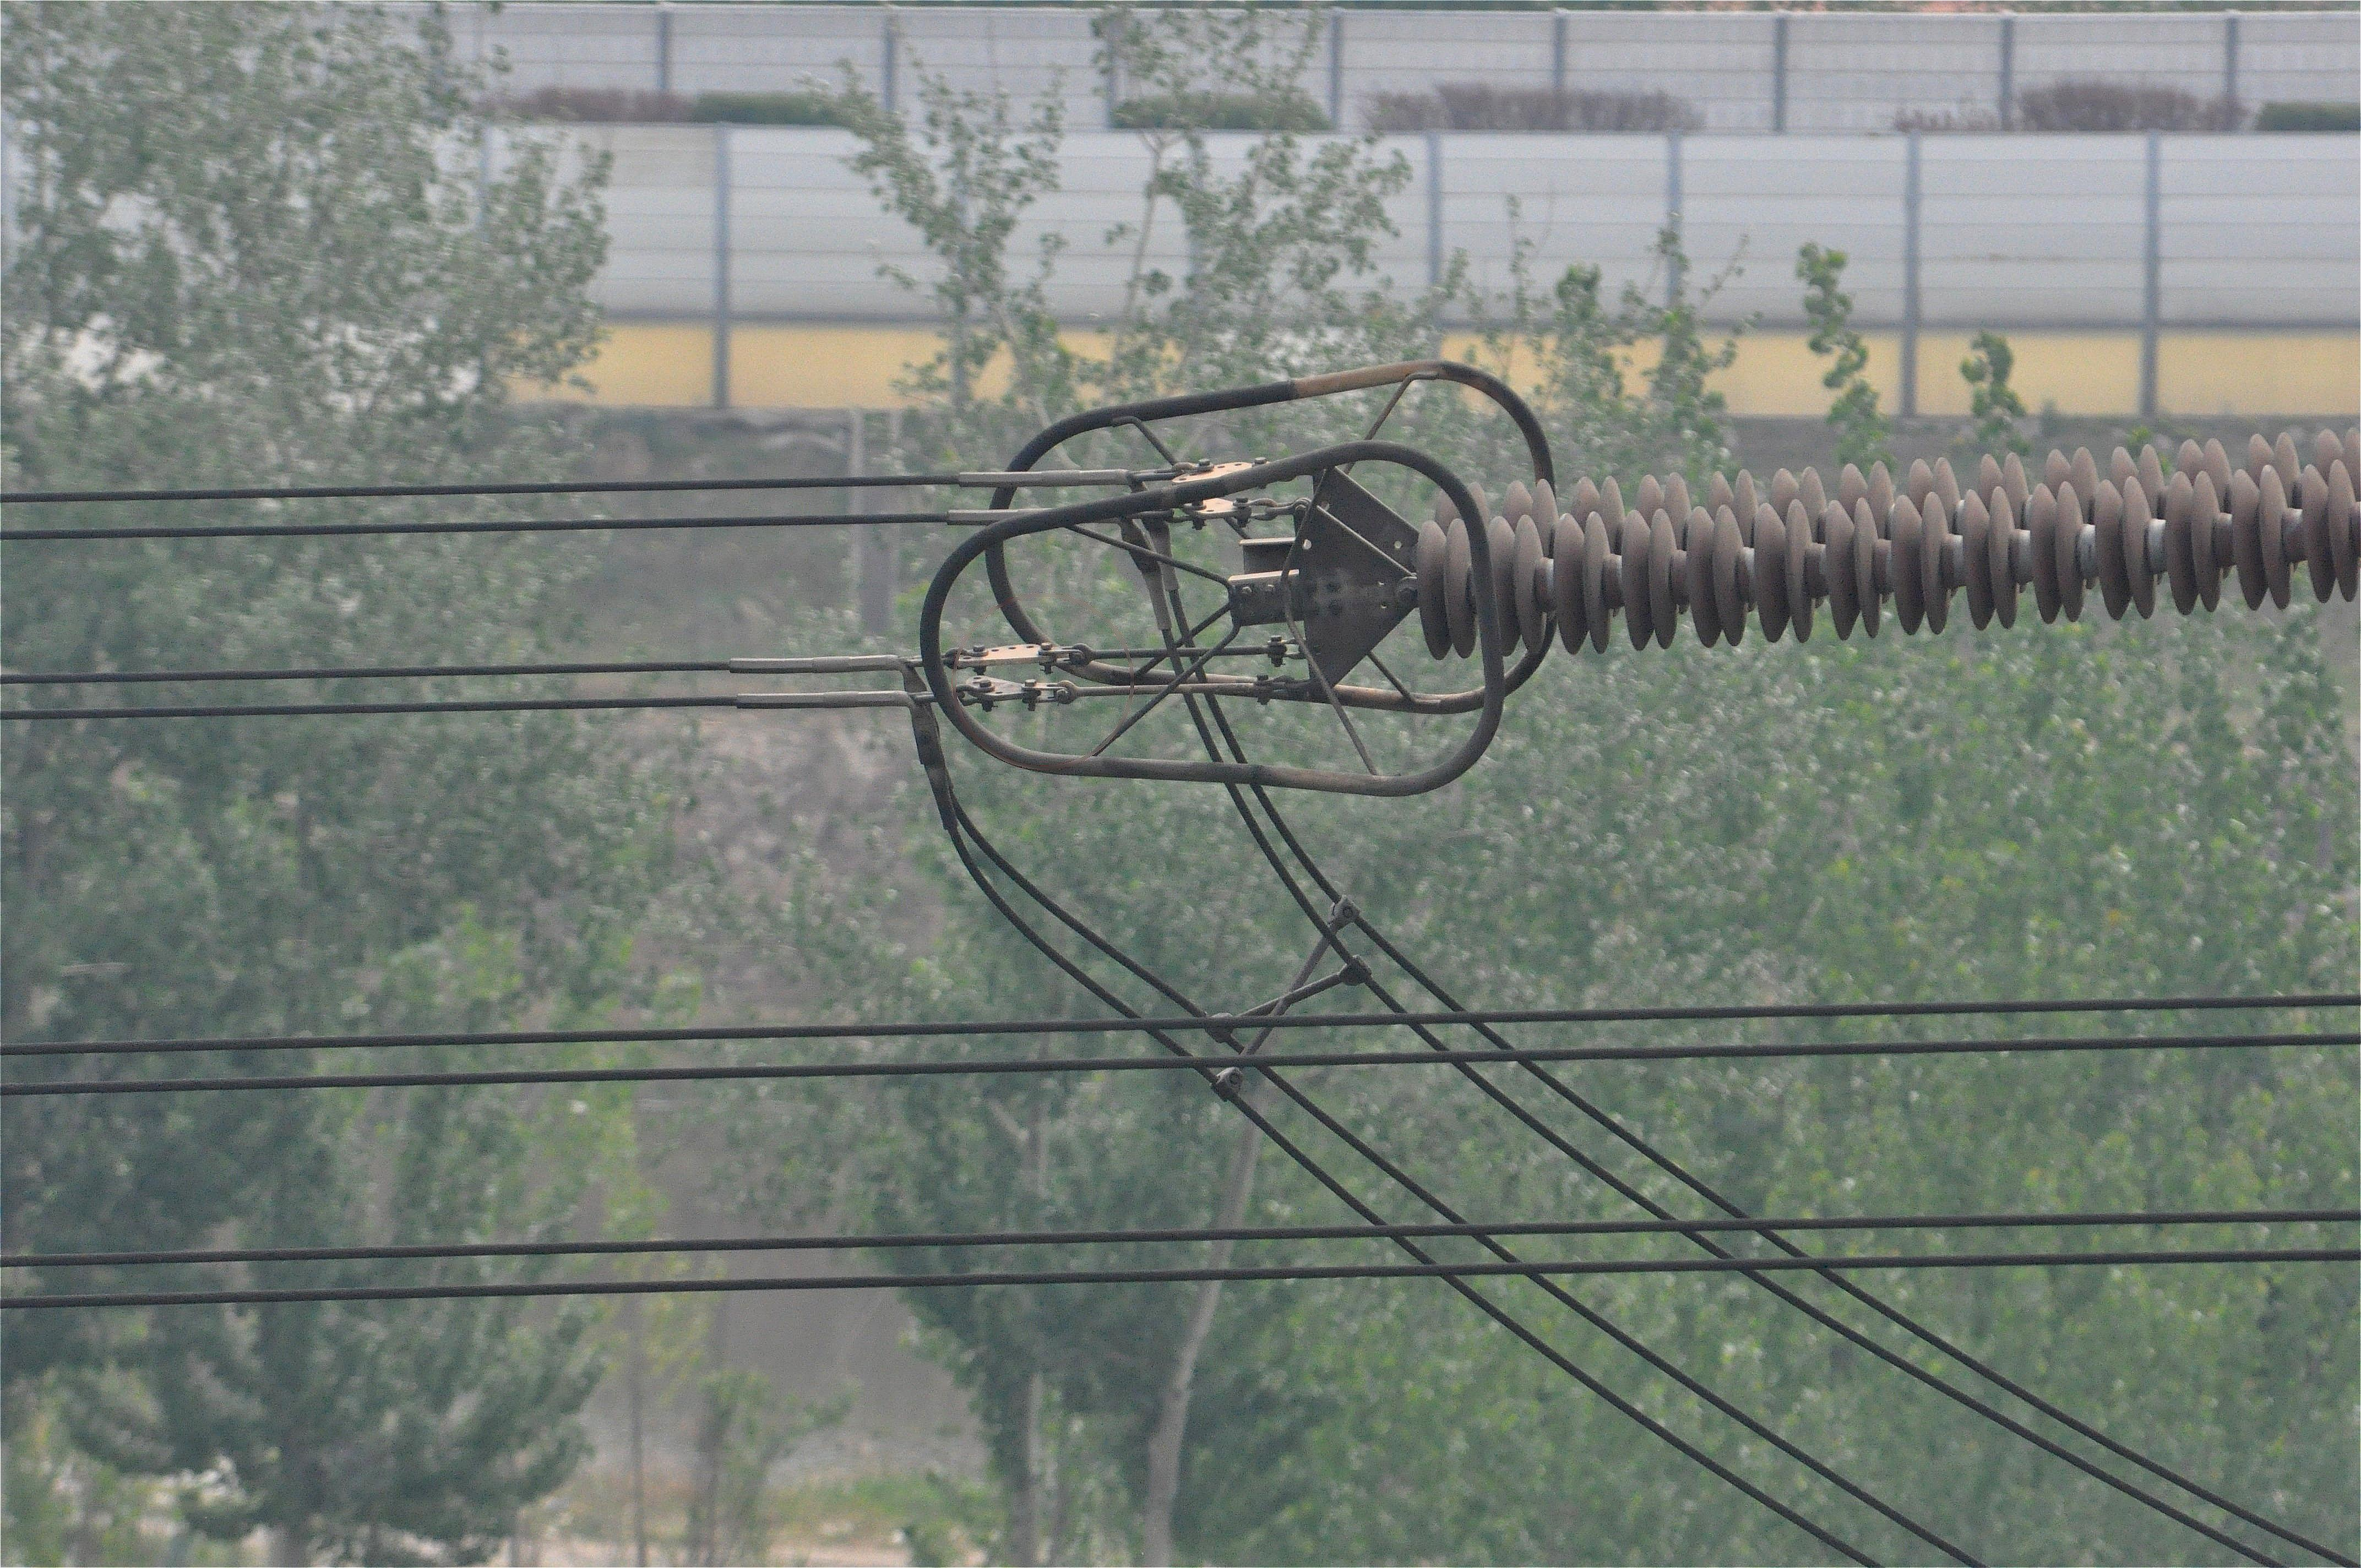insultor1: (1405, 402, 2361, 647)
